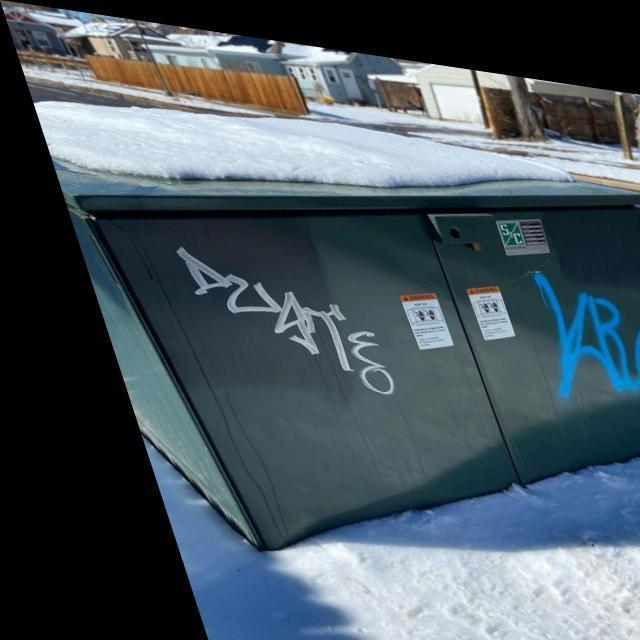-: (143, 234, 410, 404), (493, 229, 640, 412)
